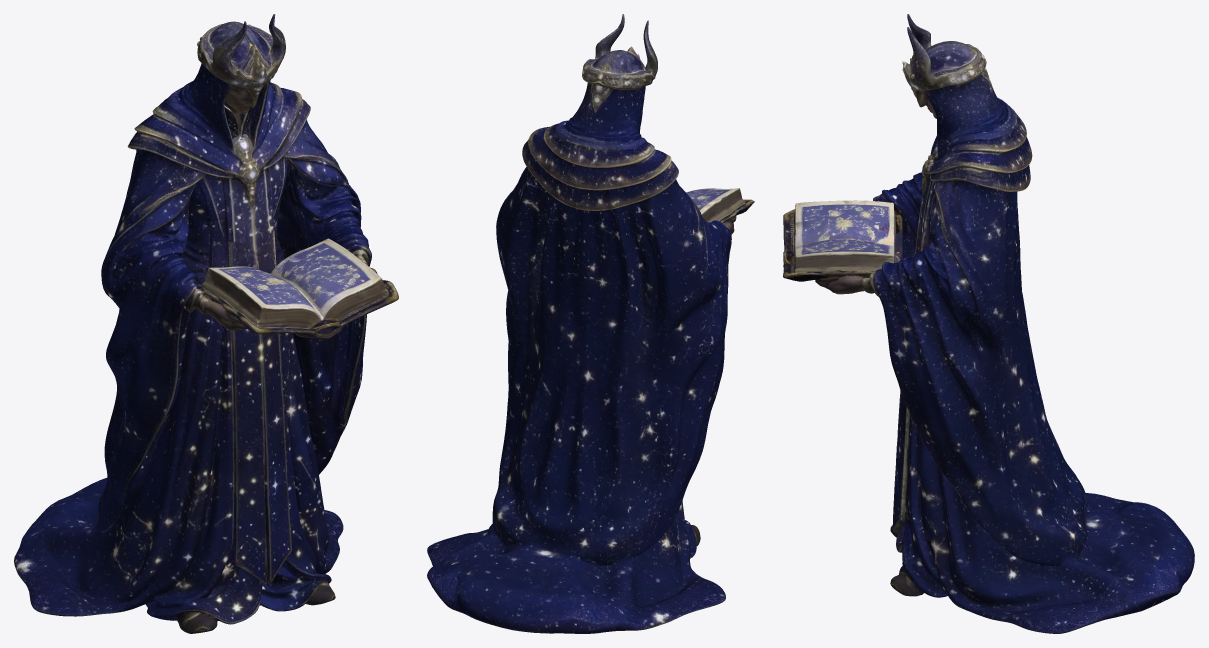
The model's file is hero_neutral.glb.
3 views of the same model, side by side, from view 1: azimuth 30°, elevation 25°; view 2: azimuth 150°, elevation 25°; view 3: azimuth 270°, elevation 25° (orthographic). The views are drawn at different scales.
Bounding box in the file's own units: 1.07 × 1.9 × 1.3.
Materials: 1 (1 with a texture image).
